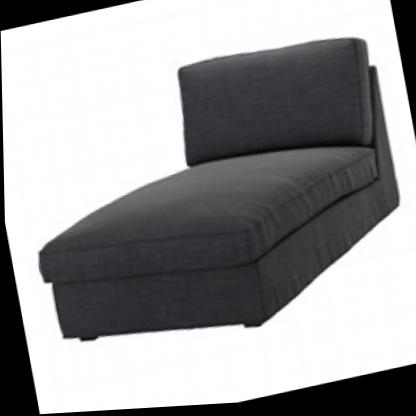Sofa: (0, 8, 416, 379)
